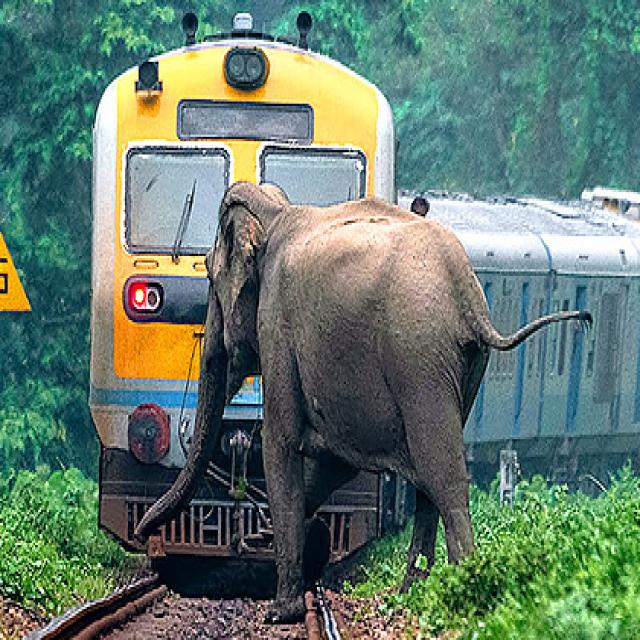Elephant: (131, 172, 532, 614)
